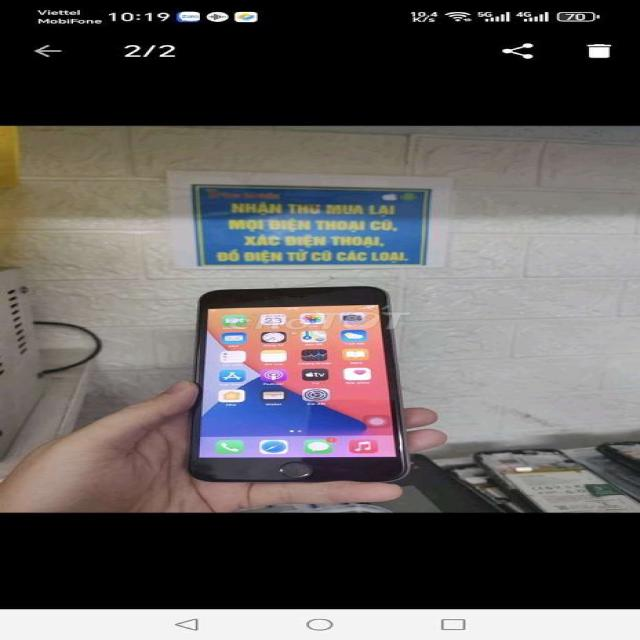gen_6: (177, 283, 430, 490)
